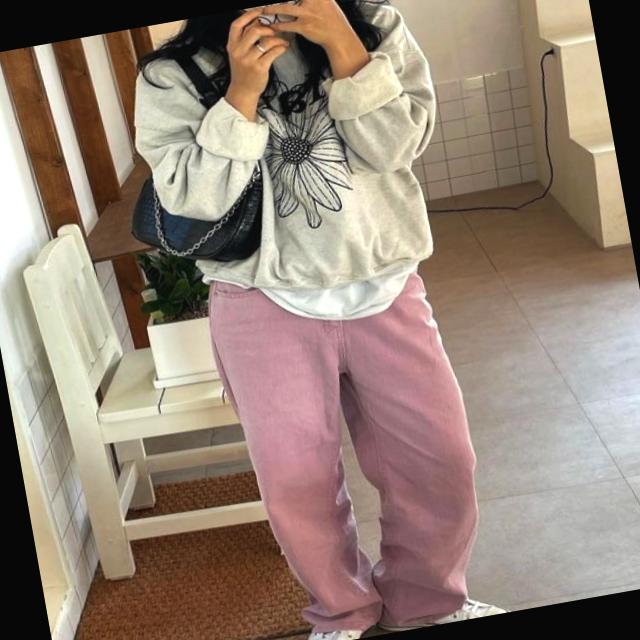cottonpants: (205, 242, 506, 640)
mtm: (114, 0, 463, 321)
